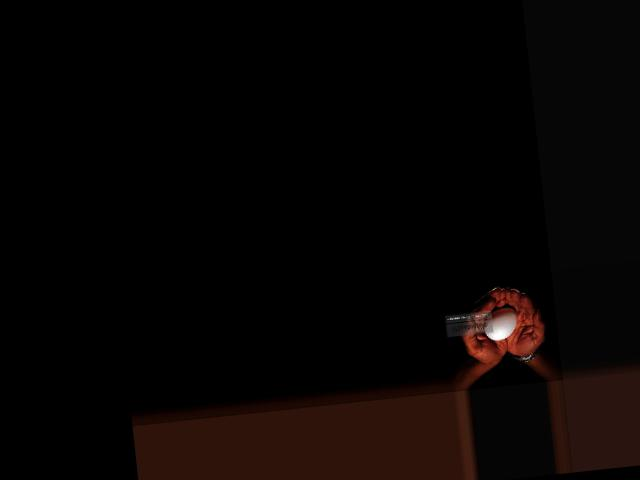egg: (483, 305, 519, 341)
